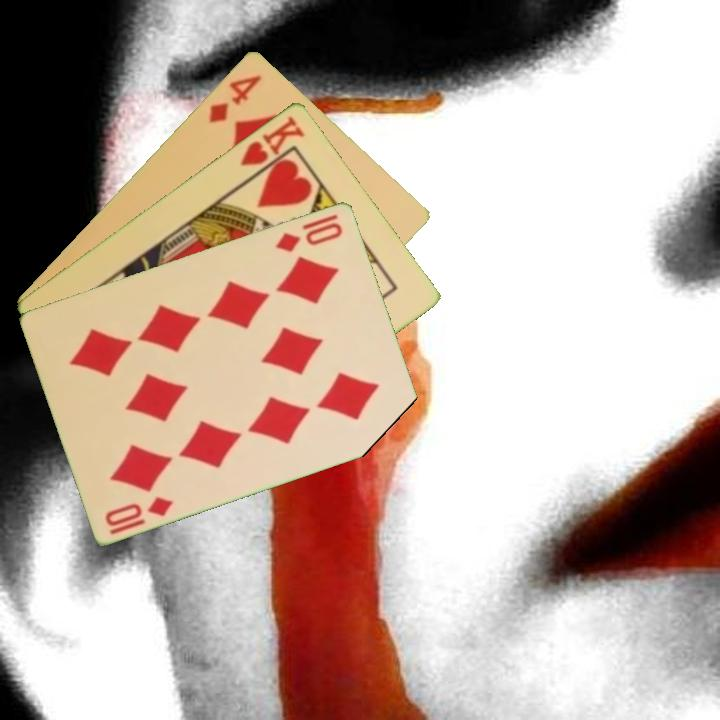10d: (101, 492, 177, 537), (272, 210, 346, 255)
4d: (204, 71, 265, 126)
Kh: (237, 112, 308, 183)
